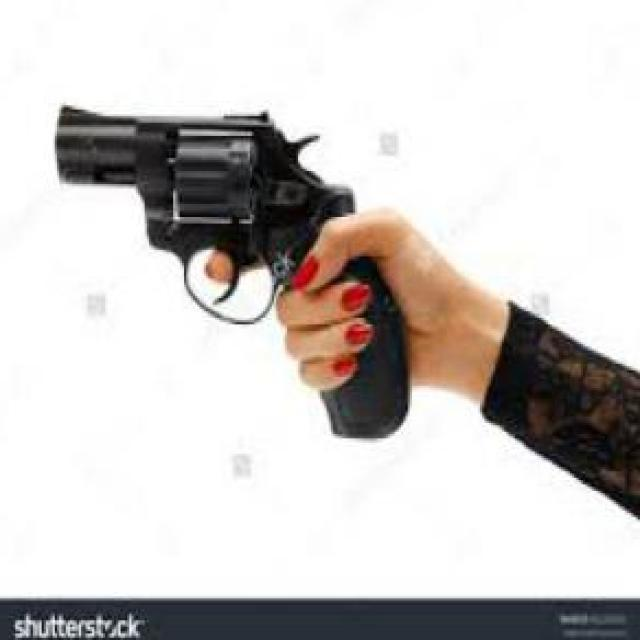pistol: (50, 101, 418, 439)
